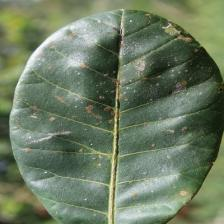red rust: (11, 8, 223, 223)
